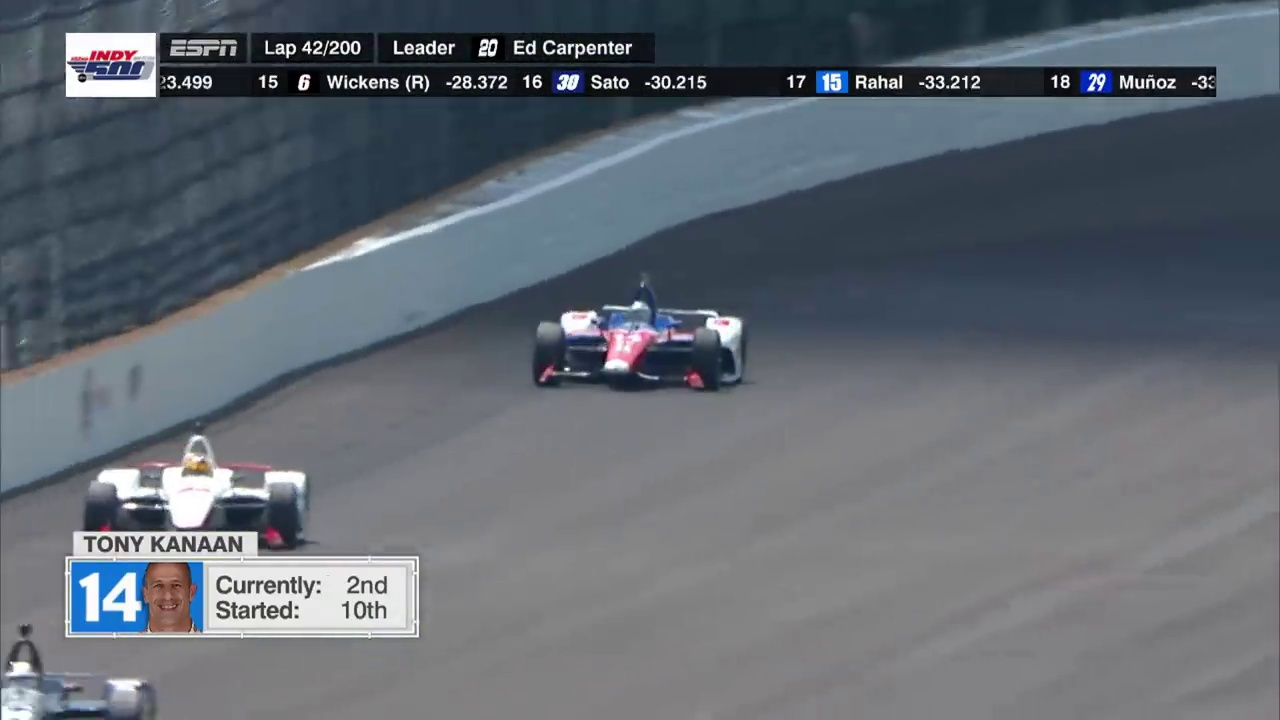car: (76, 420, 325, 555), (525, 275, 753, 404), (3, 623, 164, 719)
